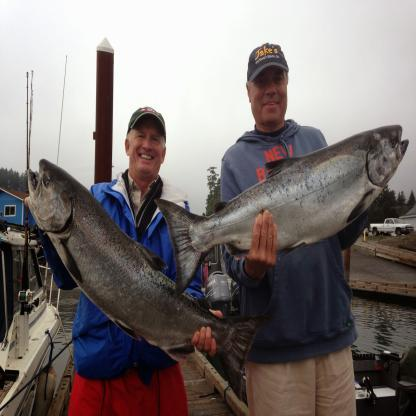fish: (26, 156, 263, 402), (154, 123, 411, 296)
